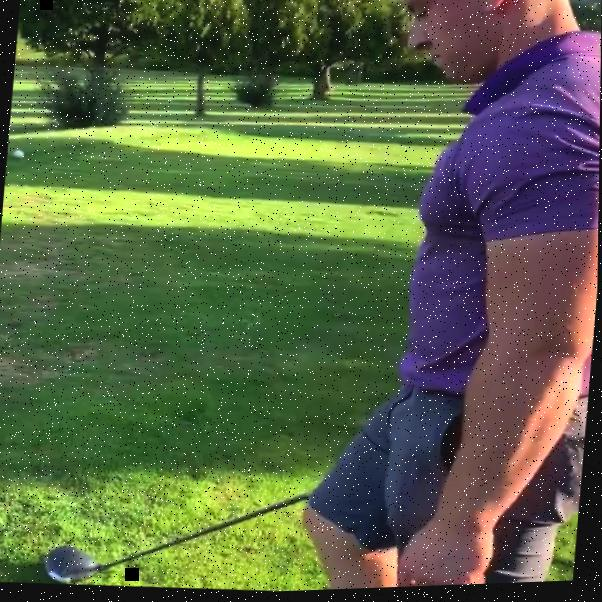ClubHead: (42, 543, 105, 587)
